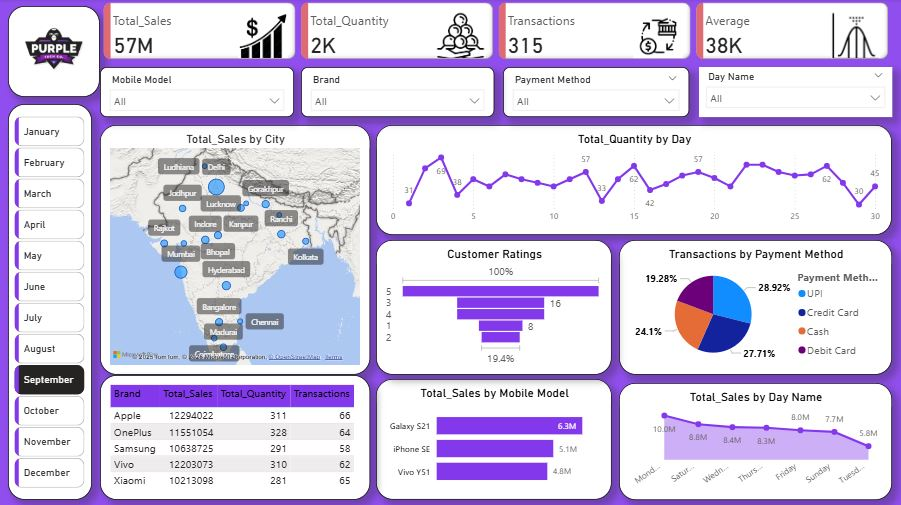

This screenshot's page, from the dashboard's own definition file:
{"tool":"powerbi","page":{"name":"Page 1","canvas":[1280,720],"ordinal":0},"visuals":[{"type":"shape","box":[12.8,9.9,130.4,129],"z":0},{"type":"shape","box":[12.8,148.8,119.1,561.3],"z":2000},{"type":"advancedSlicerVisual","fields":{"Values":["Sales_Data.Date.Variation.Date Hierarchy.Month"]},"box":[17,161.6,109.1,537.2],"z":3000},{"type":"cardVisual","fields":{"Data":["Sales_Data.Total_Sales","Sales_Data.Total_Quantity","Sales_Data.Transactions","Sales_Data.Average"]},"box":[143.1,0,1122.5,90.7],"z":4000},{"type":"map","fields":{"Category":["Sales_Data.City"],"Size":["Sales_Data.Total_Sales"]},"box":[143.1,178.6,382.7,354.3],"z":5000},{"type":"lineChart","fields":{"Category":["Sales_Data.Date.Variation.Date Hierarchy.Month","Sales_Data.Date.Variation.Date Hierarchy.Day"],"Y":["Sales_Data.Total_Quantity"]},"box":[534.3,178.6,731.3,155.9],"z":6000},{"type":"clusteredBarChart","fields":{"Category":["Sales_Data.Mobile Model"],"Y":["Sales_Data.Total_Sales"]},"box":[534.3,538.6,334.5,171.5],"z":7000},{"type":"pieChart","fields":{"Category":["Sales_Data.Payment Method"],"Y":["Sales_Data.Transactions"]},"box":[878.7,341.6,386.9,191.3],"z":8000},{"type":"funnel","title":"Customer Ratings","fields":{"Category":["Sales_Data.Customer Ratings"],"Y":["CountNonNull(Sales_Data.Customer Ratings)"]},"box":[534.3,341.6,334.5,191.3],"z":9000},{"type":"areaChart","fields":{"Category":["Sales_Data.Day Name"],"Y":["Sales_Data.Total_Sales"]},"box":[878.7,544.3,386.9,165.8],"z":10000},{"type":"tableEx","fields":{"Values":["Sales_Data.Brand","Sales_Data.Total_Sales","Sales_Data.Total_Quantity","Sales_Data.Transactions"]},"box":[143.1,532.9,382.7,177.2],"z":11000},{"type":"slicer","fields":{"Values":["Sales_Data.Mobile Model"]},"box":[143.1,96.4,275,70.9],"z":12000},{"type":"slicer","fields":{"Values":["Sales_Data.Payment Method"]},"box":[714.3,96.4,263.6,70.9],"z":13000},{"type":"slicer","fields":{"Values":["Sales_Data.Day Name"]},"box":[992.1,96.4,273.5,70.9],"z":14000},{"type":"slicer","fields":{"Values":["Sales_Data.Brand"]},"box":[428,96.4,273.5,70.9],"z":15000},{"type":"image","box":[21.3,15.6,113.4,117.6],"z":15001}]}

Visuals, with their boxes in screenshot pixels (x1, y1, x2, y2), scaled from the page's 1280x720 canvas onto the 901x505 screenshot:
shape: 9:7:101:97
shape: 9:104:93:498
advancedSlicerVisual - Sales_Data.Date.Variation.Date Hierarchy.Month: 12:113:89:490
cardVisual - Sales_Data.Total_Sales x Sales_Data.Total_Quantity: 101:0:891:64
map - Sales_Data.City x Sales_Data.Total_Sales: 101:125:370:374
lineChart - Sales_Data.Date.Variation.Date Hierarchy.Month x Sales_Data.Date.Variation.Date Hierarchy.Day: 376:125:891:235
clusteredBarChart - Sales_Data.Mobile Model x Sales_Data.Total_Sales: 376:378:612:498
pieChart - Sales_Data.Payment Method x Sales_Data.Transactions: 619:240:891:374
"Customer Ratings" funnel: 376:240:612:374
areaChart - Sales_Data.Day Name x Sales_Data.Total_Sales: 619:382:891:498
tableEx - Sales_Data.Brand x Sales_Data.Total_Sales: 101:374:370:498
slicer - Sales_Data.Mobile Model: 101:68:294:117
slicer - Sales_Data.Payment Method: 503:68:688:117
slicer - Sales_Data.Day Name: 698:68:891:117
slicer - Sales_Data.Brand: 301:68:494:117
image: 15:11:95:93
